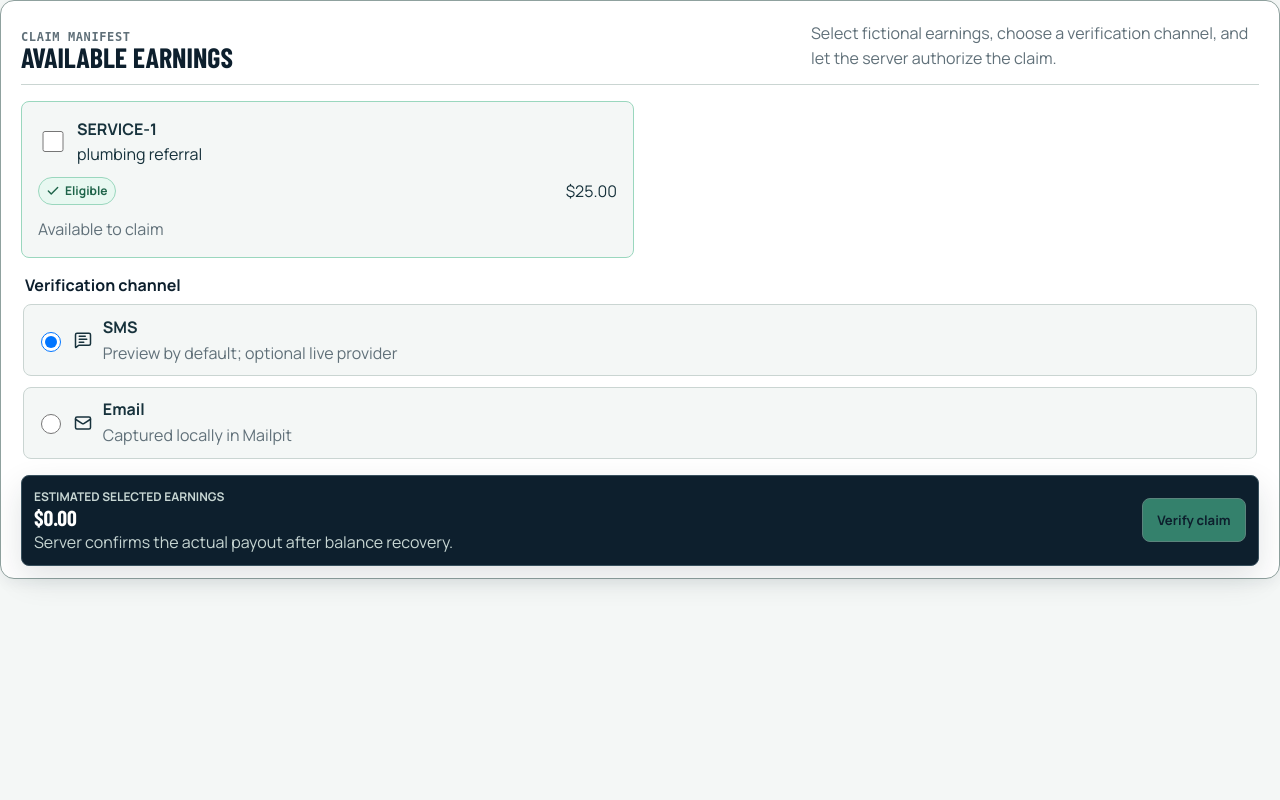
Test case: ClaimFlow › disables unavailable SMS and directs the partner to local email
This screenshot has width=1280, height=800.
Step 1. Click the checkbox labelled "plumbing referral SERVICE-1" → click(53, 141), box left=42, top=131, right=64, bottom=152
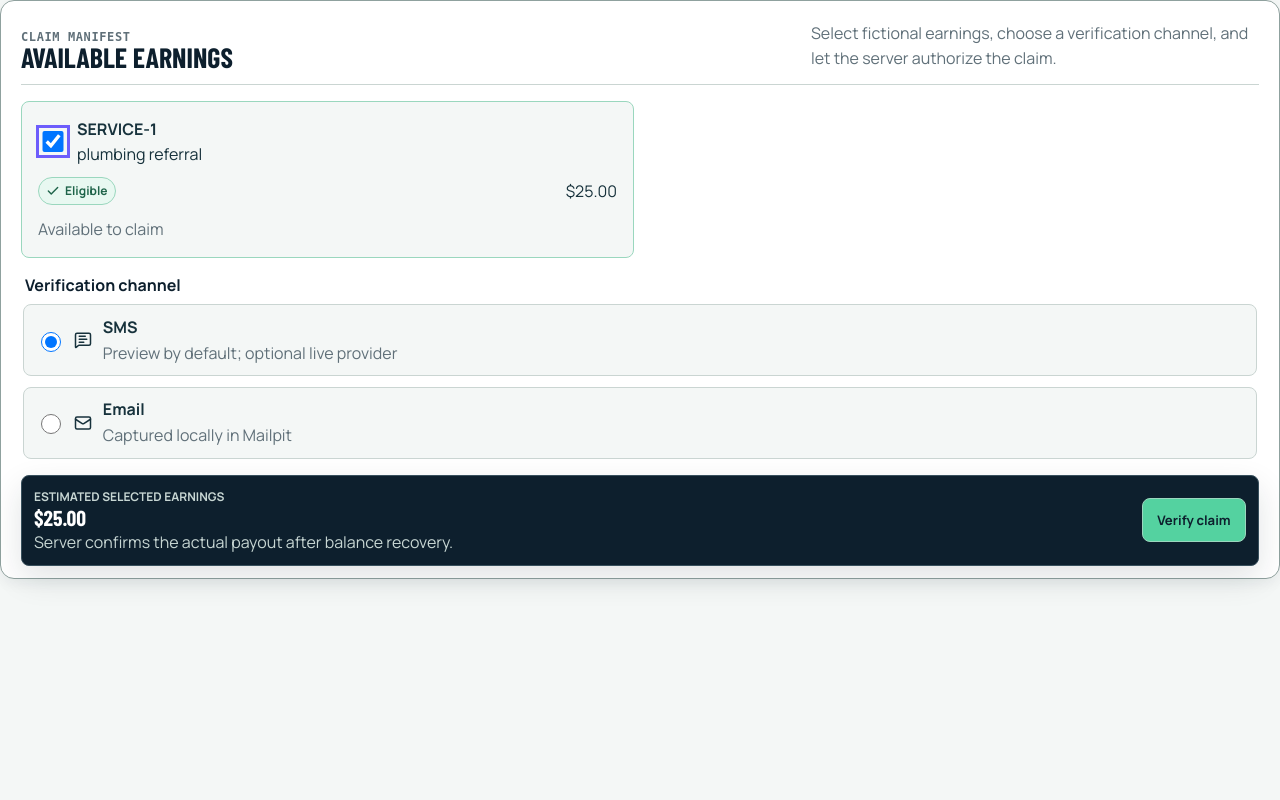
Step 2. Click the button "Verify claim" → click(1194, 520), box left=1142, top=498, right=1246, bottom=542
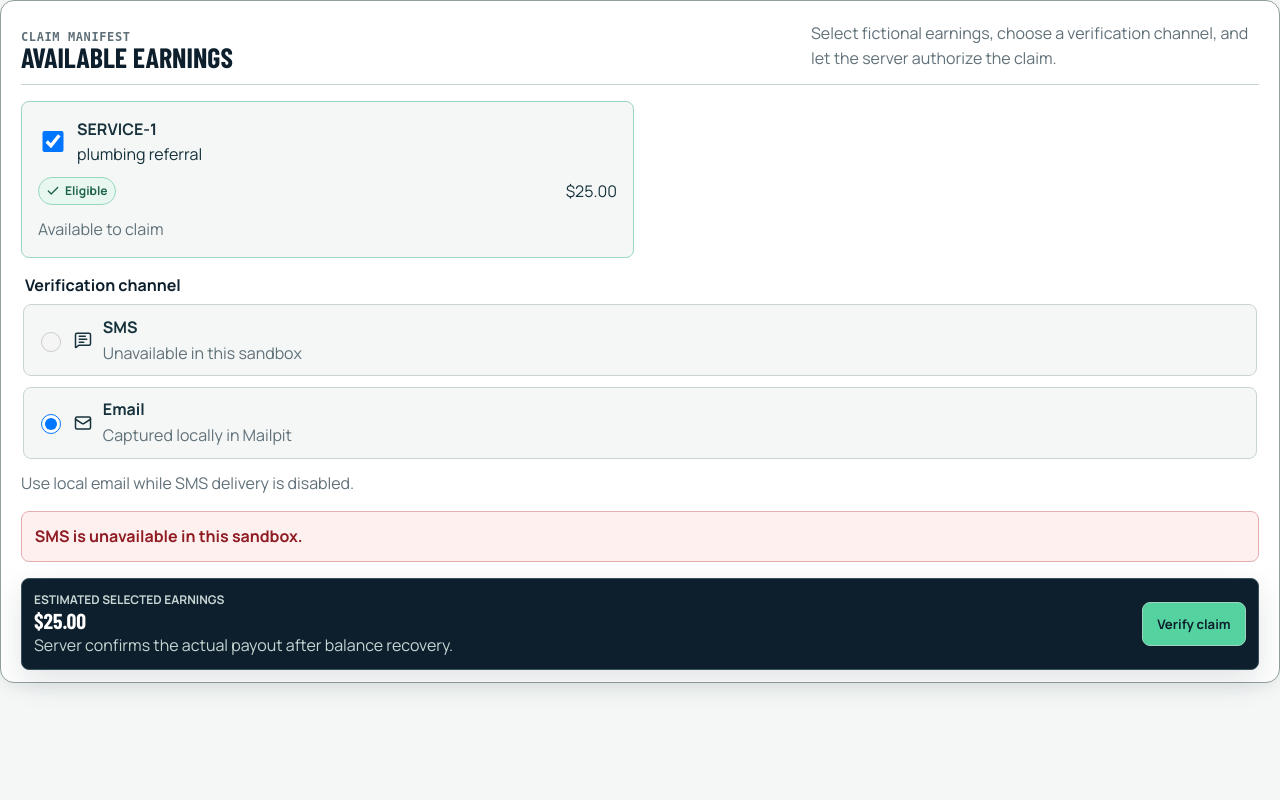
expect the message shows "SMS is unavailable": met, box left=35, top=525, right=303, bottom=547
expect the radio button labelled "SMS" is disabled: met, box left=41, top=332, right=61, bottom=352
expect the radio button labelled "Email" is checked: met, box left=41, top=414, right=61, bottom=434
